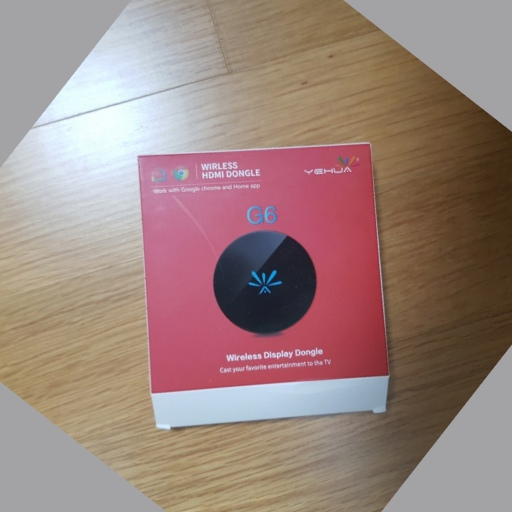Paper_0: (127, 141, 400, 436)
